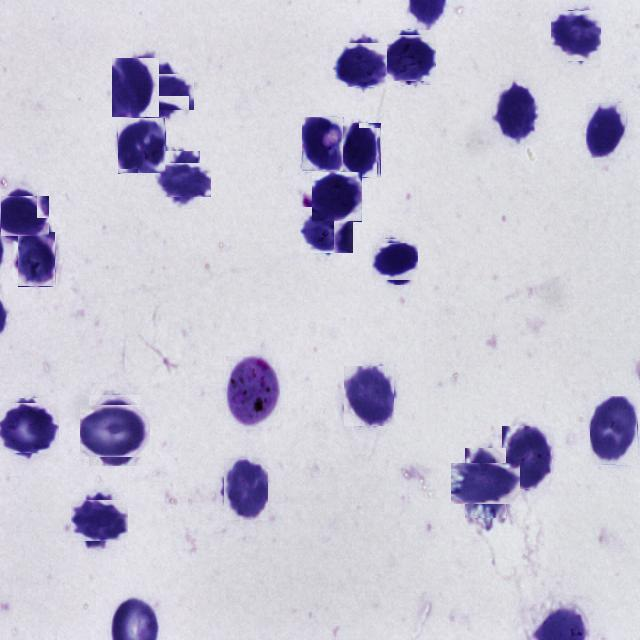difficult: (226, 356, 280, 426)
red blood cell: (84, 400, 146, 461), (590, 396, 638, 465), (502, 426, 552, 489), (458, 455, 514, 511), (1, 401, 56, 456), (344, 366, 394, 426), (112, 58, 159, 117), (224, 458, 268, 520), (118, 118, 166, 174), (550, 10, 602, 60), (384, 32, 434, 83), (74, 496, 124, 546), (336, 40, 386, 90), (302, 205, 352, 255), (312, 172, 362, 222), (139, 67, 188, 116), (495, 85, 537, 142), (302, 117, 344, 172), (586, 103, 627, 159), (0, 192, 45, 241), (341, 123, 381, 178), (18, 232, 56, 287), (160, 157, 206, 202), (374, 241, 416, 283)
